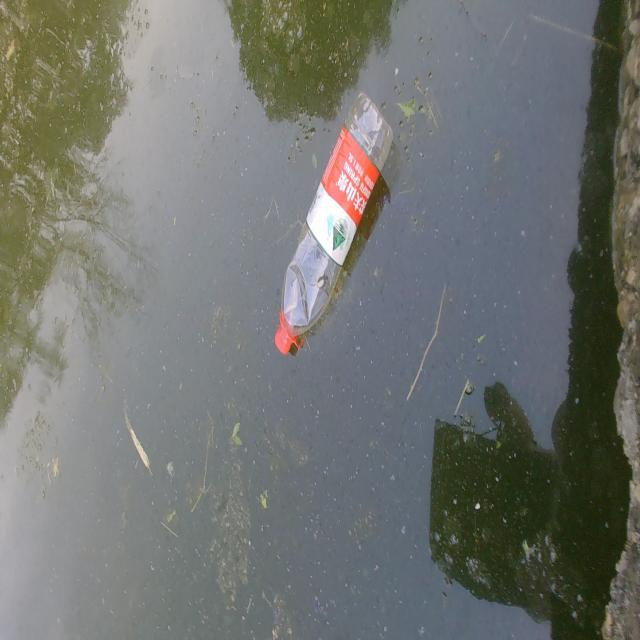bottle: (256, 61, 406, 410)
